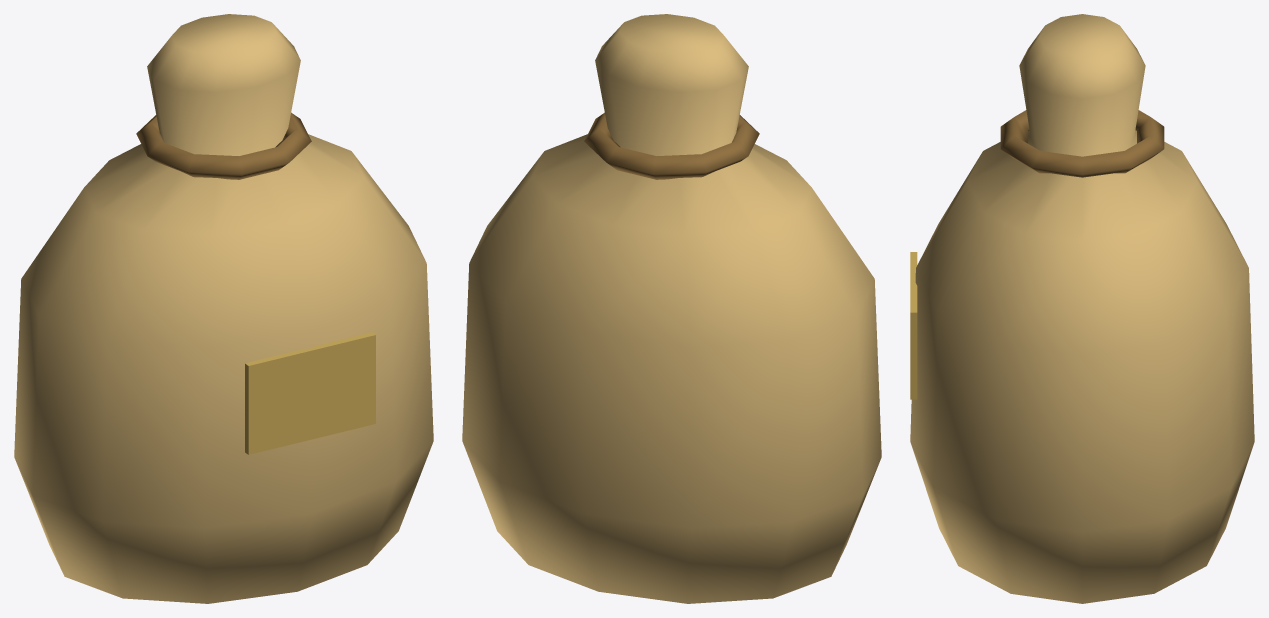
Rendered from Proc_Malt.fbx.
3 views of the same model, side by side, from view 1: azimuth 30°, elevation 25°; view 2: azimuth 150°, elevation 25°; view 3: azimuth 270°, elevation 25° (orthographic). The views are drawn at different scales.
Visible parts, largest first — view 1: Proc_Malt__Stack; view 2: Proc_Malt__Stack; view 3: Proc_Malt__Stack.
Boxes of the visible parts, <box> form: Proc_Malt__Stack: <box>14,14,433,603</box>; Proc_Malt__Stack: <box>462,14,881,603</box>; Proc_Malt__Stack: <box>910,14,1254,603</box>.
Bounding box in the file's own units: 0.216 × 0.272 × 0.1728.
